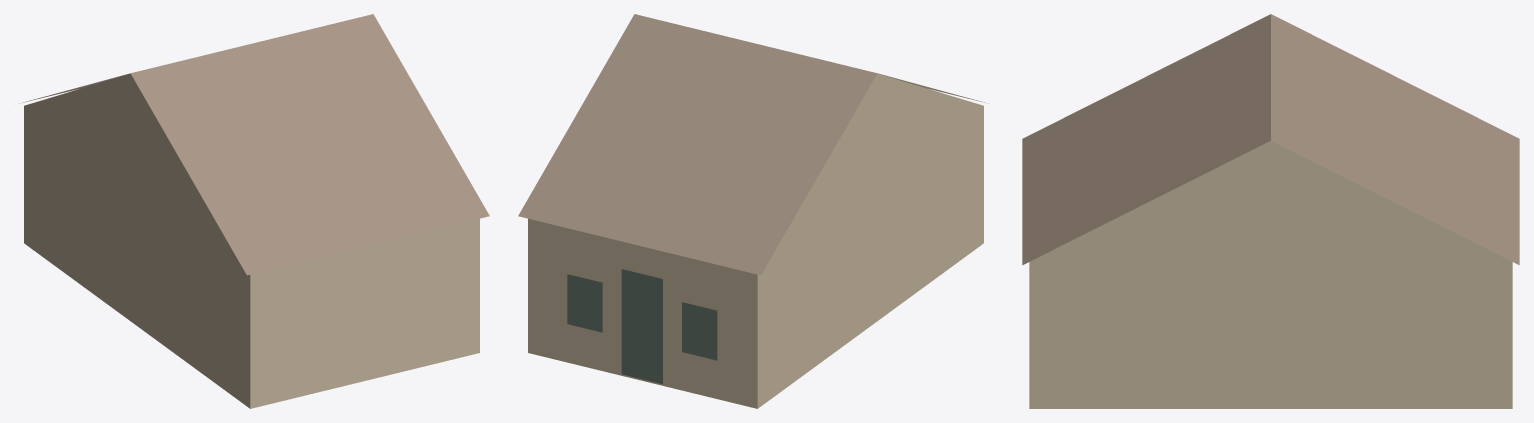
Rendered from recon_1835_south_w4_032__recommended_1835.glb.
3 renders of one model, left to right at view 1: azimuth 30°, elevation 25°; view 2: azimuth 150°, elevation 25°; view 3: azimuth 270°, elevation 25°, orthographic. The views are drawn at different scales.
Visible parts, largest first — view 1: recon_1835_south_w4_032__recommended_1835; view 2: recon_1835_south_w4_032__recommended_1835; view 3: recon_1835_south_w4_032__recommended_1835.
Part boxes in pixels (x1,y1,x2,y2): recon_1835_south_w4_032__recommended_1835: (19, 14, 489, 408); recon_1835_south_w4_032__recommended_1835: (518, 14, 988, 408); recon_1835_south_w4_032__recommended_1835: (1022, 14, 1519, 408).
Size of the model in its own units: 5.08 by 5.09 by 8.44.
